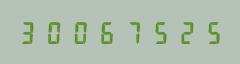five: (147, 20, 172, 44), (199, 20, 224, 44)
seven: (121, 20, 146, 44)
six: (95, 20, 120, 44)
three: (17, 20, 42, 44)
two: (173, 20, 198, 44)
zero: (43, 20, 68, 44), (69, 20, 94, 44)
